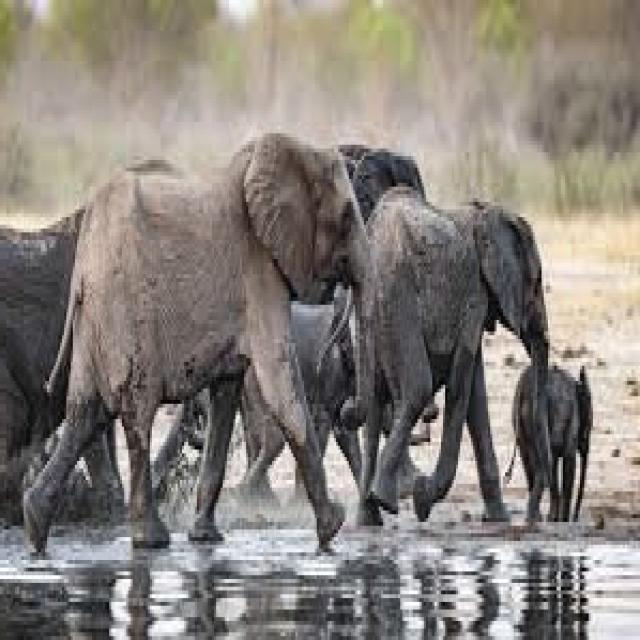elephant: (26, 133, 375, 549), (347, 408, 351, 415), (345, 411, 347, 419)
